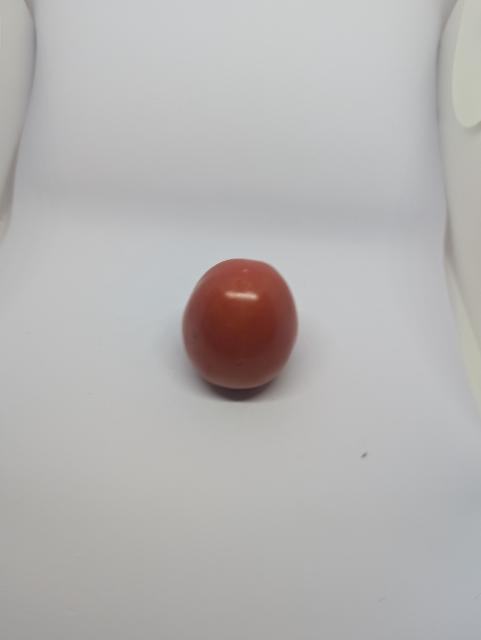red: (180, 254, 302, 402)
